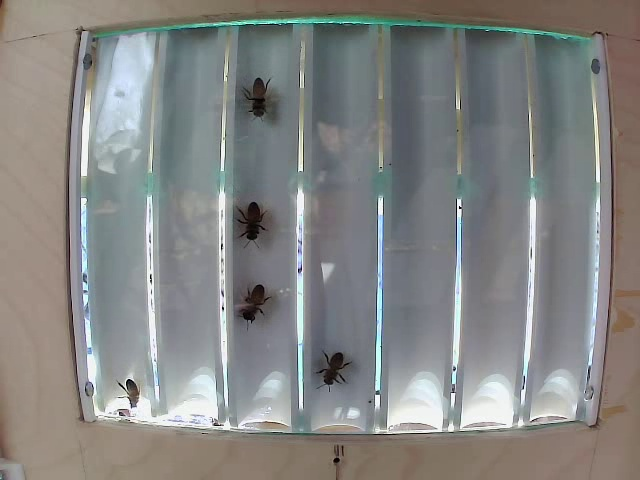bee: (224, 189, 282, 247), (222, 267, 268, 339), (237, 69, 279, 128), (305, 336, 348, 388)
